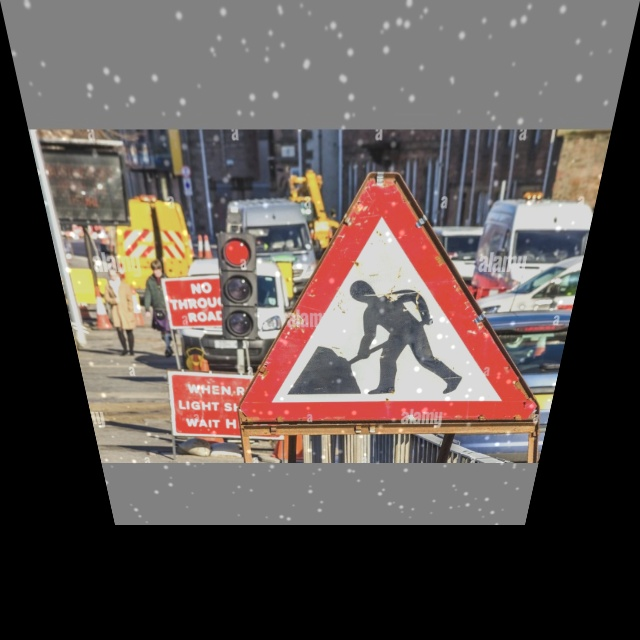Men_at_Work: (243, 183, 557, 426)
